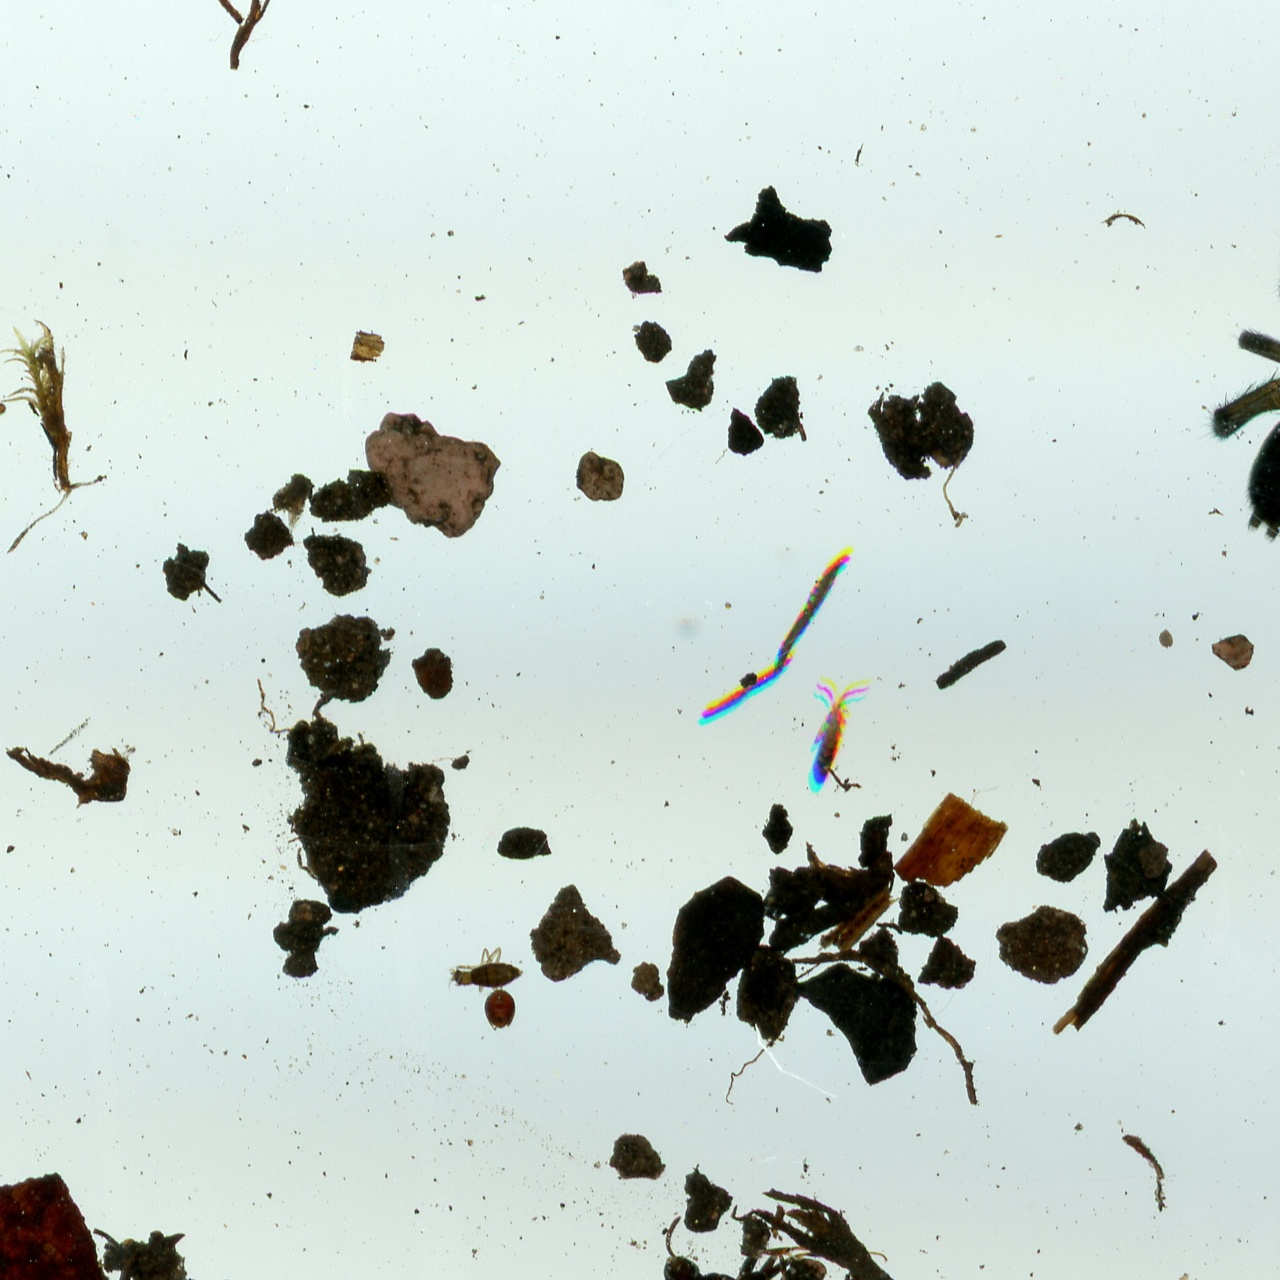arthropod: (1189, 219, 1280, 546), (654, 1211, 894, 1280), (794, 662, 879, 803), (444, 945, 527, 993), (481, 989, 518, 1035)
